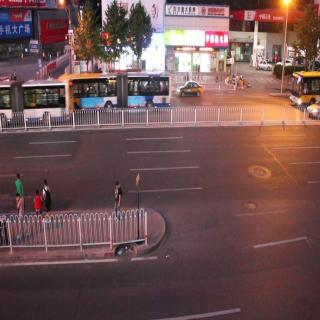BigCar: (63, 73, 172, 110), (0, 76, 71, 124)
Car: (175, 80, 211, 103)
